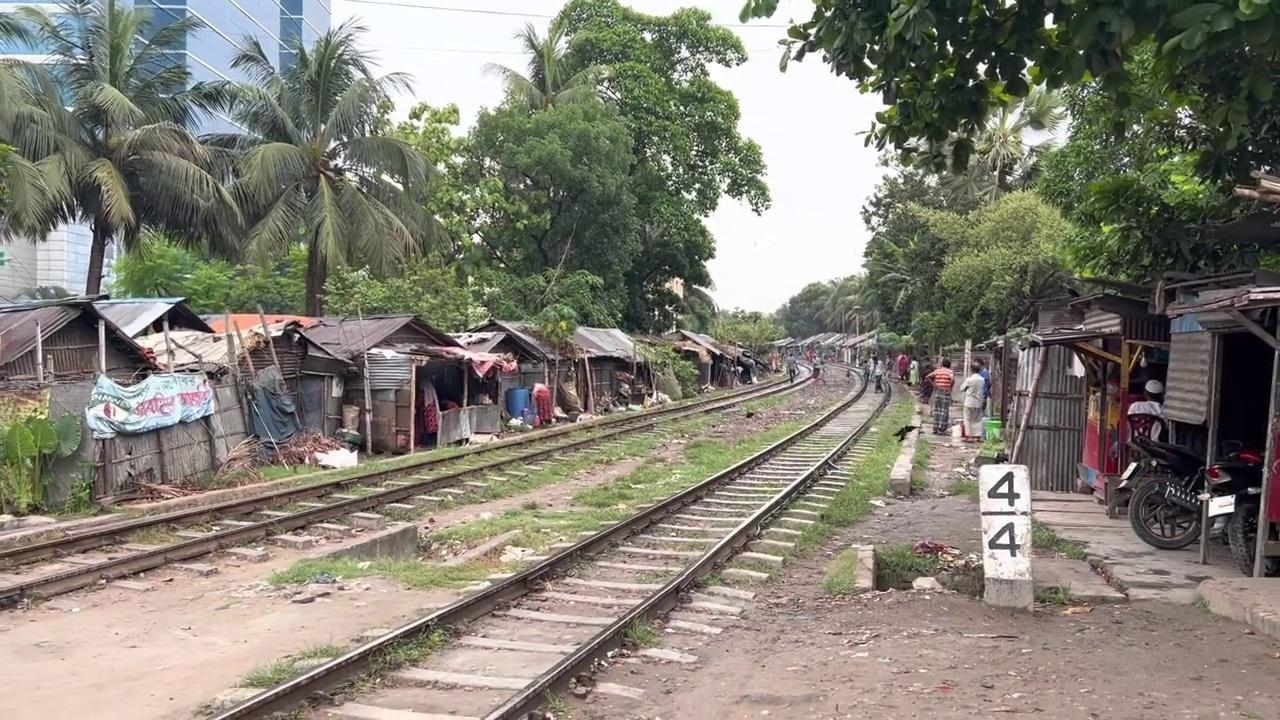Crosswalk: (504, 386, 530, 419)
Fence: (531, 381, 554, 426)
Motorcycle: (207, 351, 893, 718)
Pothole: (977, 462, 1034, 608)
Railroad-crossing: (189, 14, 447, 316), (0, 0, 242, 298)
